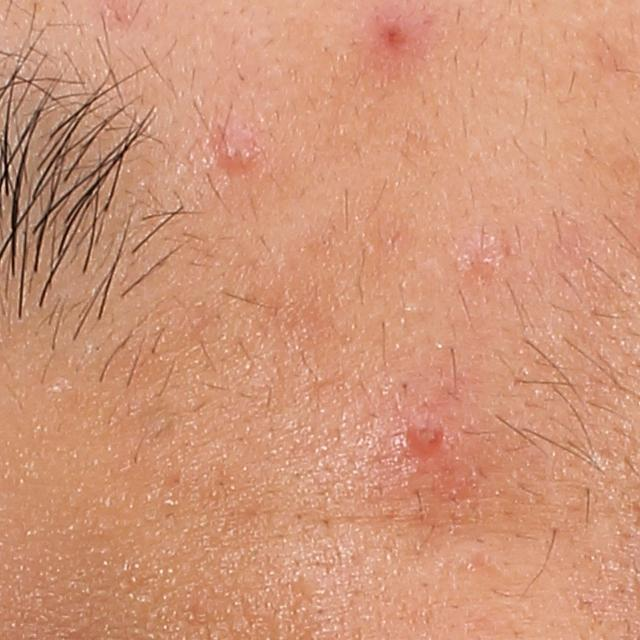papule: (378, 16, 417, 51)
